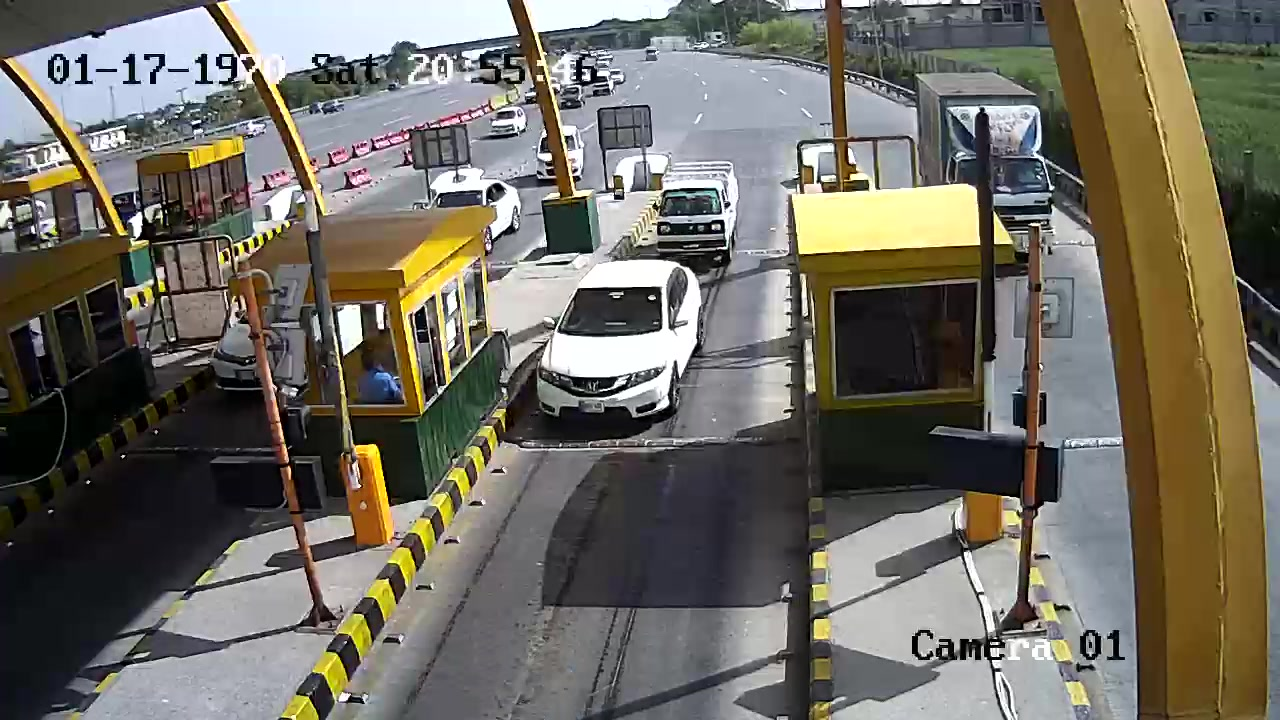F1: (526, 257, 723, 433)
